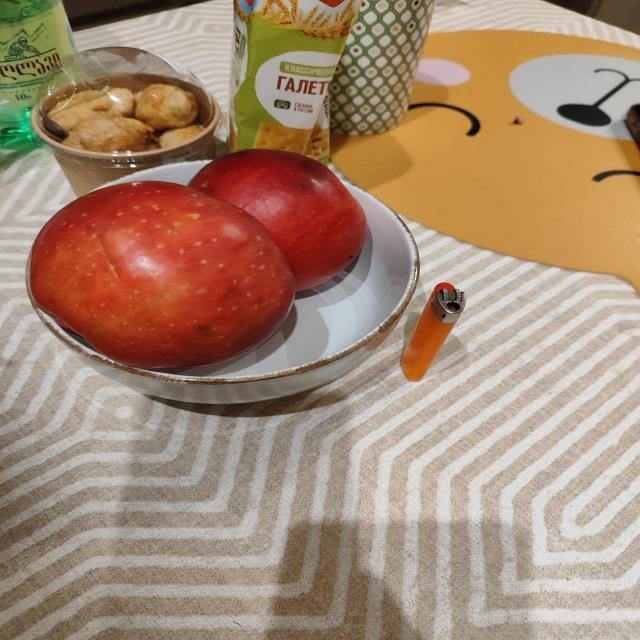lighter: (400, 282, 464, 381)
